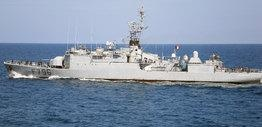warship: (3, 9, 262, 84)
